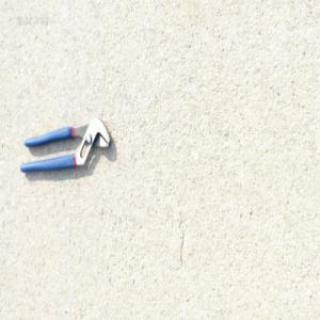Pliertrack_idkeyframe: (18, 115, 111, 173)
